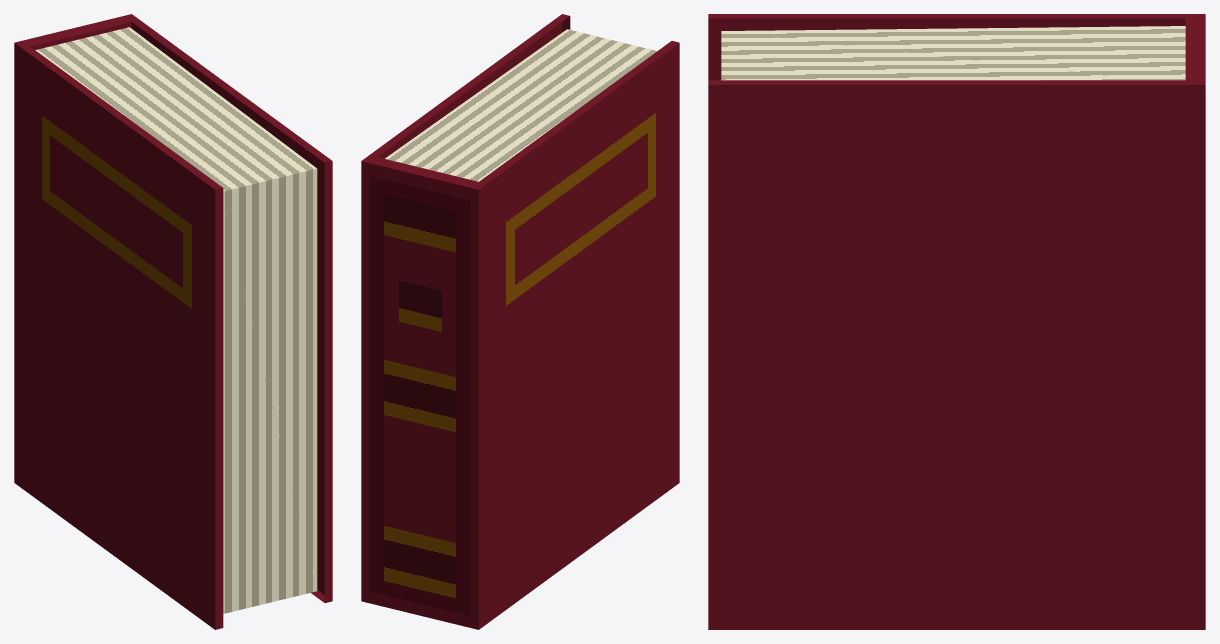
The model's file is bookVar1.fbx.
3 views of the same model, side by side, from view 1: azimuth 30°, elevation 25°; view 2: azimuth 150°, elevation 25°; view 3: azimuth 270°, elevation 25° (orthographic). The views are drawn at different scales.
Parts seen in each view (by area): view 1: Cube.001, Cube.051; view 2: Cube.001, Cube.051; view 3: Cube.001, Cube.051.
Part boxes in pixels (left/top/right/bottom): Cube.001: left=14, top=14, right=332, bottom=629; Cube.051: left=35, top=27, right=317, bottom=613; Cube.001: left=361, top=14, right=679, bottom=629; Cube.051: left=385, top=29, right=656, bottom=181; Cube.001: left=708, top=14, right=1205, bottom=629; Cube.051: left=721, top=26, right=1185, bottom=80.
Size of the model in its own units: 10.25 by 36.68 by 30.36.
